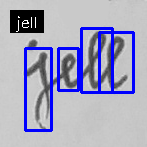e: (56, 52, 80, 90)
j: (22, 37, 53, 132)
l: (85, 28, 108, 90), (104, 34, 129, 91)
